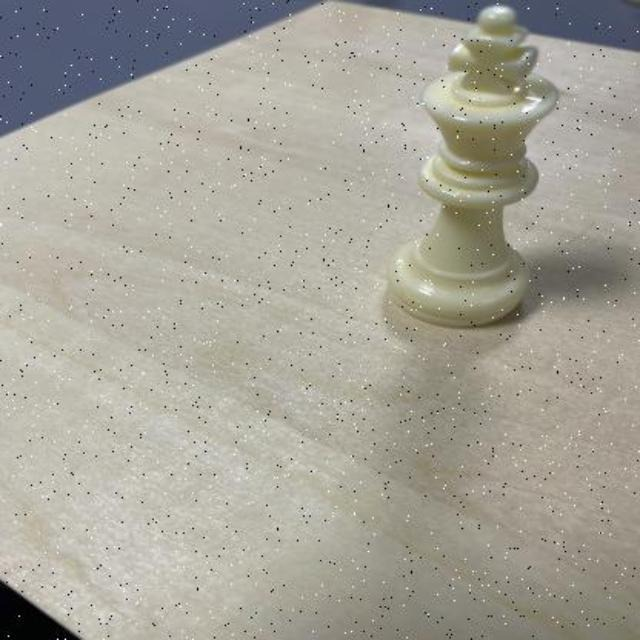white-king: (388, 5, 560, 327)
